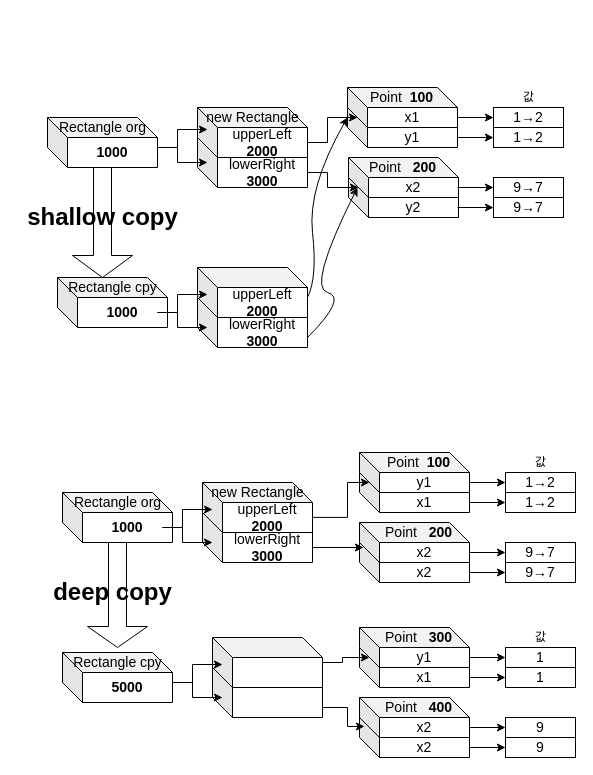
The diagram is 593 pixels wide and 775 high, and some of its shapes have lost their labels. The shapes that lost their labels are listed below. From the top down, each one's box as (x1, y1, x2, y2) in pixels, then its label:
(212, 636, 322, 688): upperLeft 6000
(212, 666, 322, 718): lowerRight 7000
